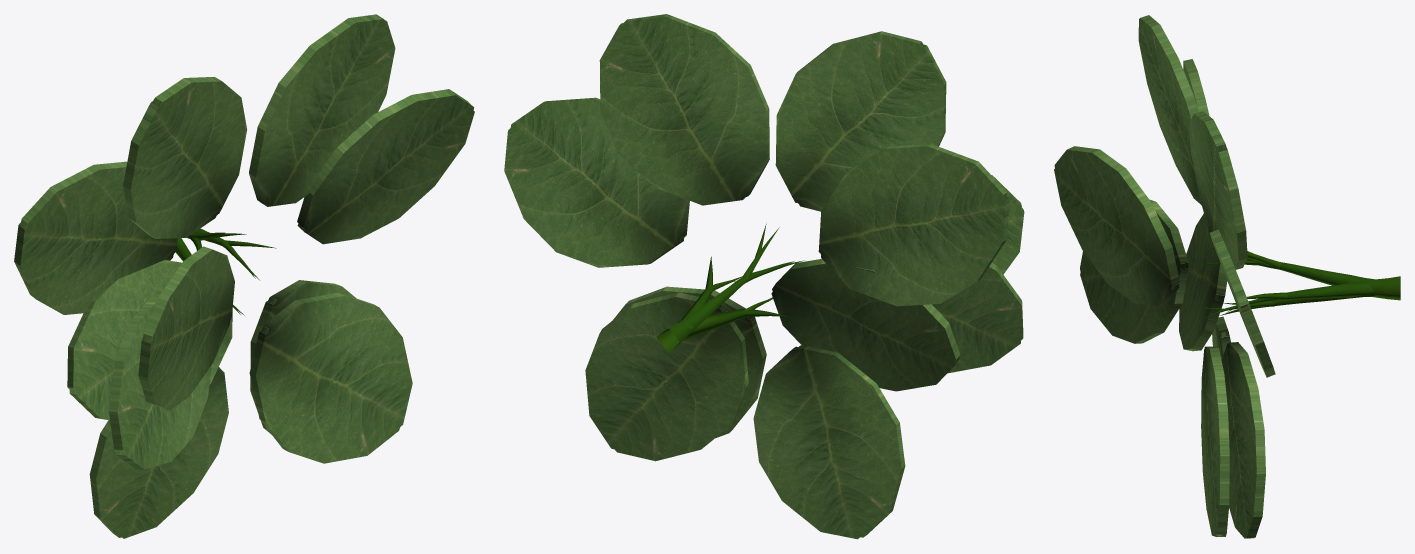
Rendered from plant5.obj.
The picture shows the model from 3 angles, left to right: view 1: azimuth 30°, elevation 25°; view 2: azimuth 150°, elevation 25°; view 3: azimuth 270°, elevation 25°; orthographic projection. The views are drawn at different scales.
Parts seen in each view (by area): view 1: leaves.005, tree.005; view 2: leaves.005, tree.005; view 3: leaves.005, tree.005.
Boxes of the visible parts, x1=… form: leaves.005: x1=14, y1=14, x2=474, y2=538; tree.005: x1=175, y1=228, x2=276, y2=315; leaves.005: x1=504, y1=14, x2=1024, y2=539; tree.005: x1=656, y1=224, x2=804, y2=352; leaves.005: x1=1054, y1=15, x2=1275, y2=538; tree.005: x1=1192, y1=248, x2=1400, y2=318.
Size of the model in its own units: 0.1011 by 0.0967 by 0.0679.
2 materials, 2 textured.
